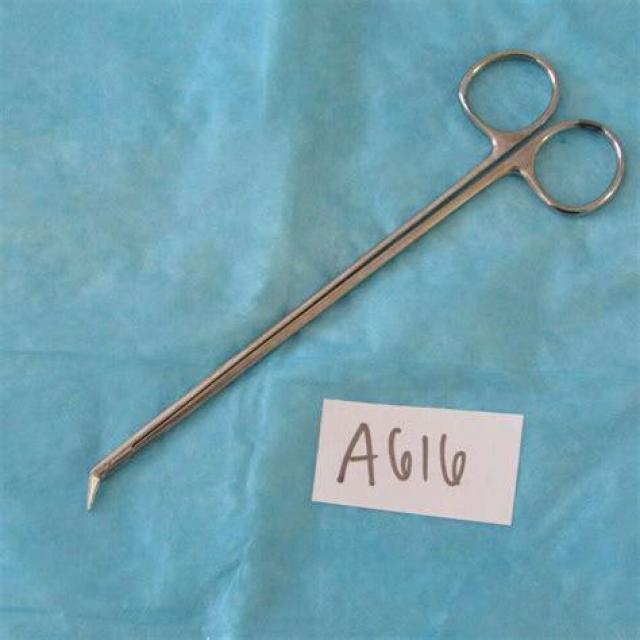Potts: (81, 44, 633, 518)
